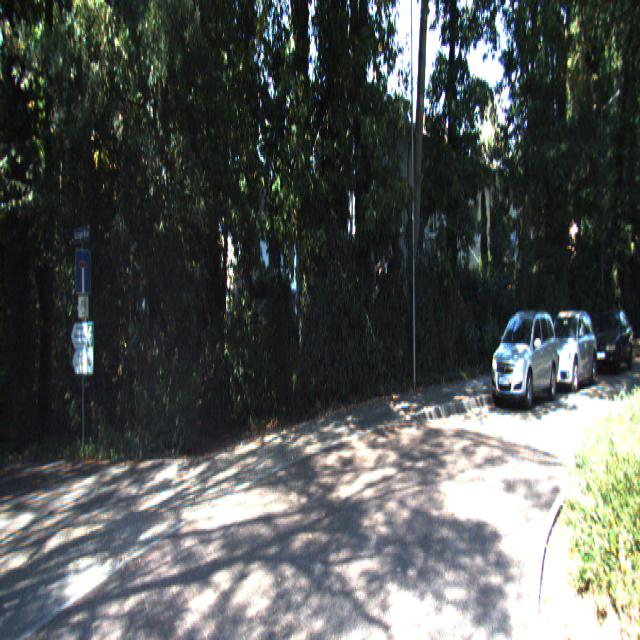Car: (489, 306, 558, 412), (536, 308, 596, 393), (590, 306, 632, 372)
